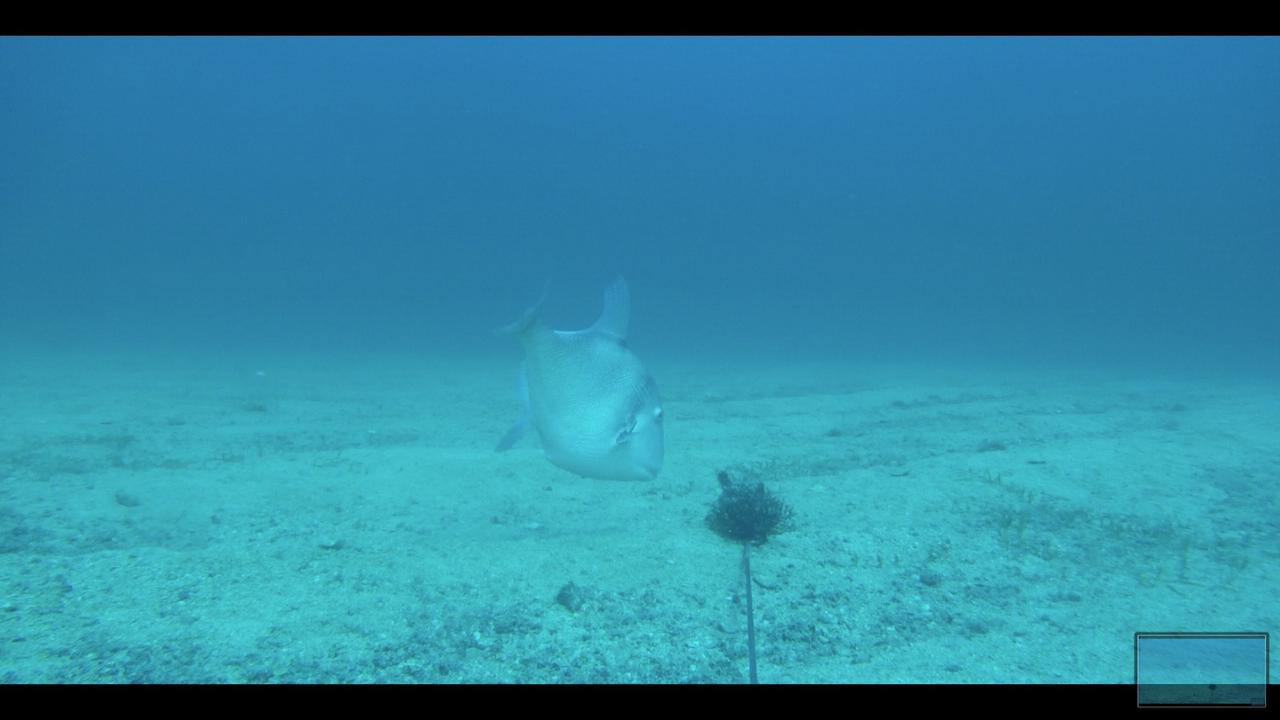balistes: (479, 255, 672, 491)
